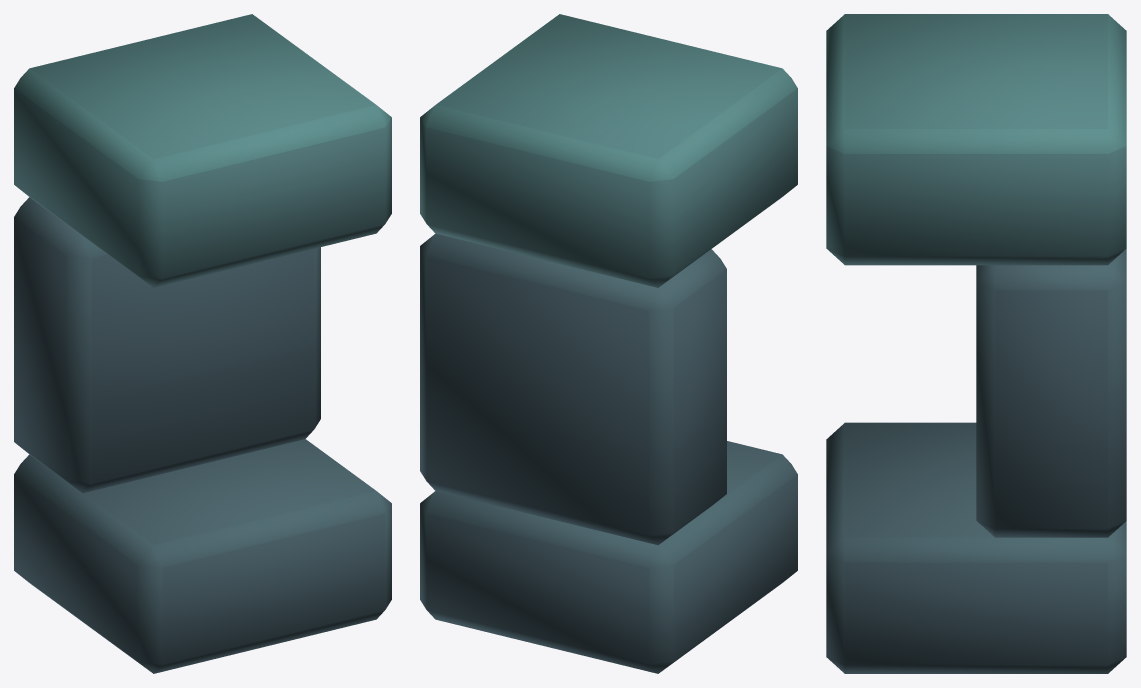
File: wall_pannel_03_hue_1.fbx
The picture shows the model from 3 angles, left to right: view 1: azimuth 30°, elevation 25°; view 2: azimuth 150°, elevation 25°; view 3: azimuth 270°, elevation 25°; orthographic projection. The views are drawn at different scales.
Parts seen in each view (by area): view 1: wall_pannel_03_hue_1; view 2: wall_pannel_03_hue_1; view 3: wall_pannel_03_hue_1.
Boxes of the visible parts, x1=… form: wall_pannel_03_hue_1: x1=14, y1=14, x2=391, y2=673; wall_pannel_03_hue_1: x1=420, y1=14, x2=797, y2=673; wall_pannel_03_hue_1: x1=826, y1=14, x2=1126, y2=673.
Bounding box in the file's own units: 51.56 × 100 × 50.
